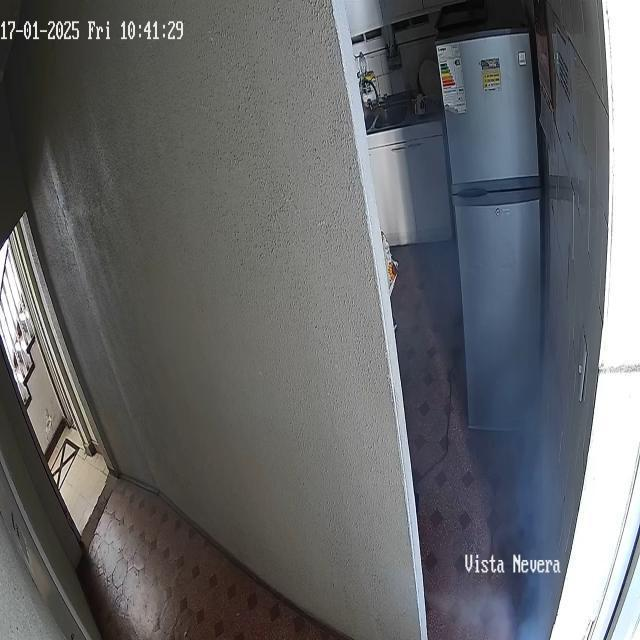fire: (420, 298, 559, 640)
